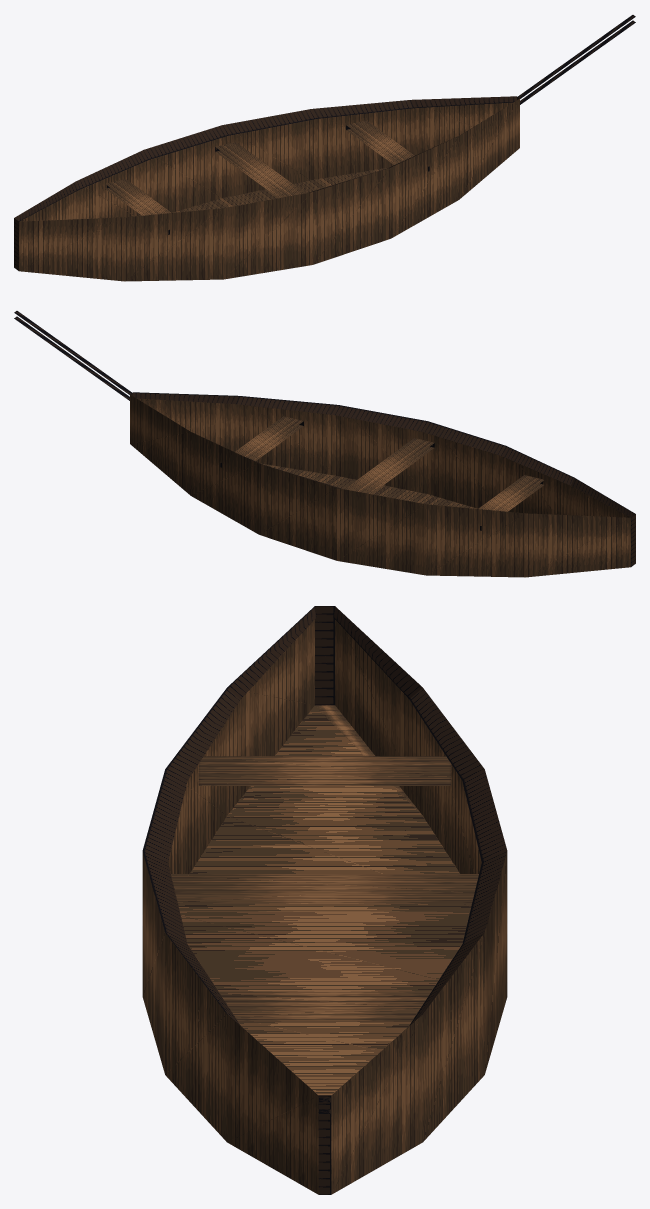
File: MAR-04_Bote_amarrado_a.gltf
The picture shows the model from 3 angles, top to bottom: view 1: azimuth 30°, elevation 25°; view 2: azimuth 150°, elevation 25°; view 3: azimuth 270°, elevation 25°; orthographic projection. The views are drawn at different scales.
Visible parts, largest first — view 1: MAR-04_Bote_amarrado_a-convcol; view 2: MAR-04_Bote_amarrado_a-convcol; view 3: MAR-04_Bote_amarrado_a-convcol.
Boxes of the visible parts, box(x1,y1,x2,y2) form: MAR-04_Bote_amarrado_a-convcol: box(14, 15, 635, 281); MAR-04_Bote_amarrado_a-convcol: box(14, 311, 635, 577); MAR-04_Bote_amarrado_a-convcol: box(142, 606, 507, 1194).
Bounding box in the file's own units: 6.65 × 1.3 × 1.7.
Materials: 1 (1 with a texture image).
